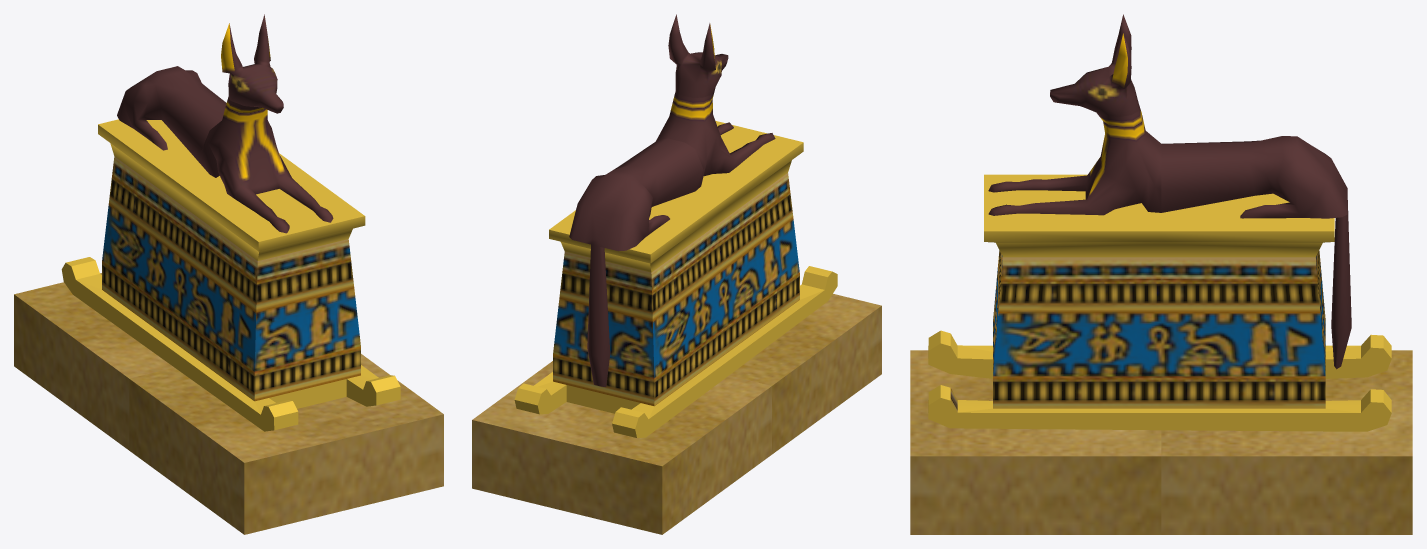
The model's file is egy_anubis.obj.
3 views of the same model, side by side, from view 1: azimuth 30°, elevation 25°; view 2: azimuth 150°, elevation 25°; view 3: azimuth 270°, elevation 25° (orthographic). The views are drawn at different scales.
Bounding box in the file's own units: 1 × 2.02 × 2.
Materials: 1 (1 with a texture image).
